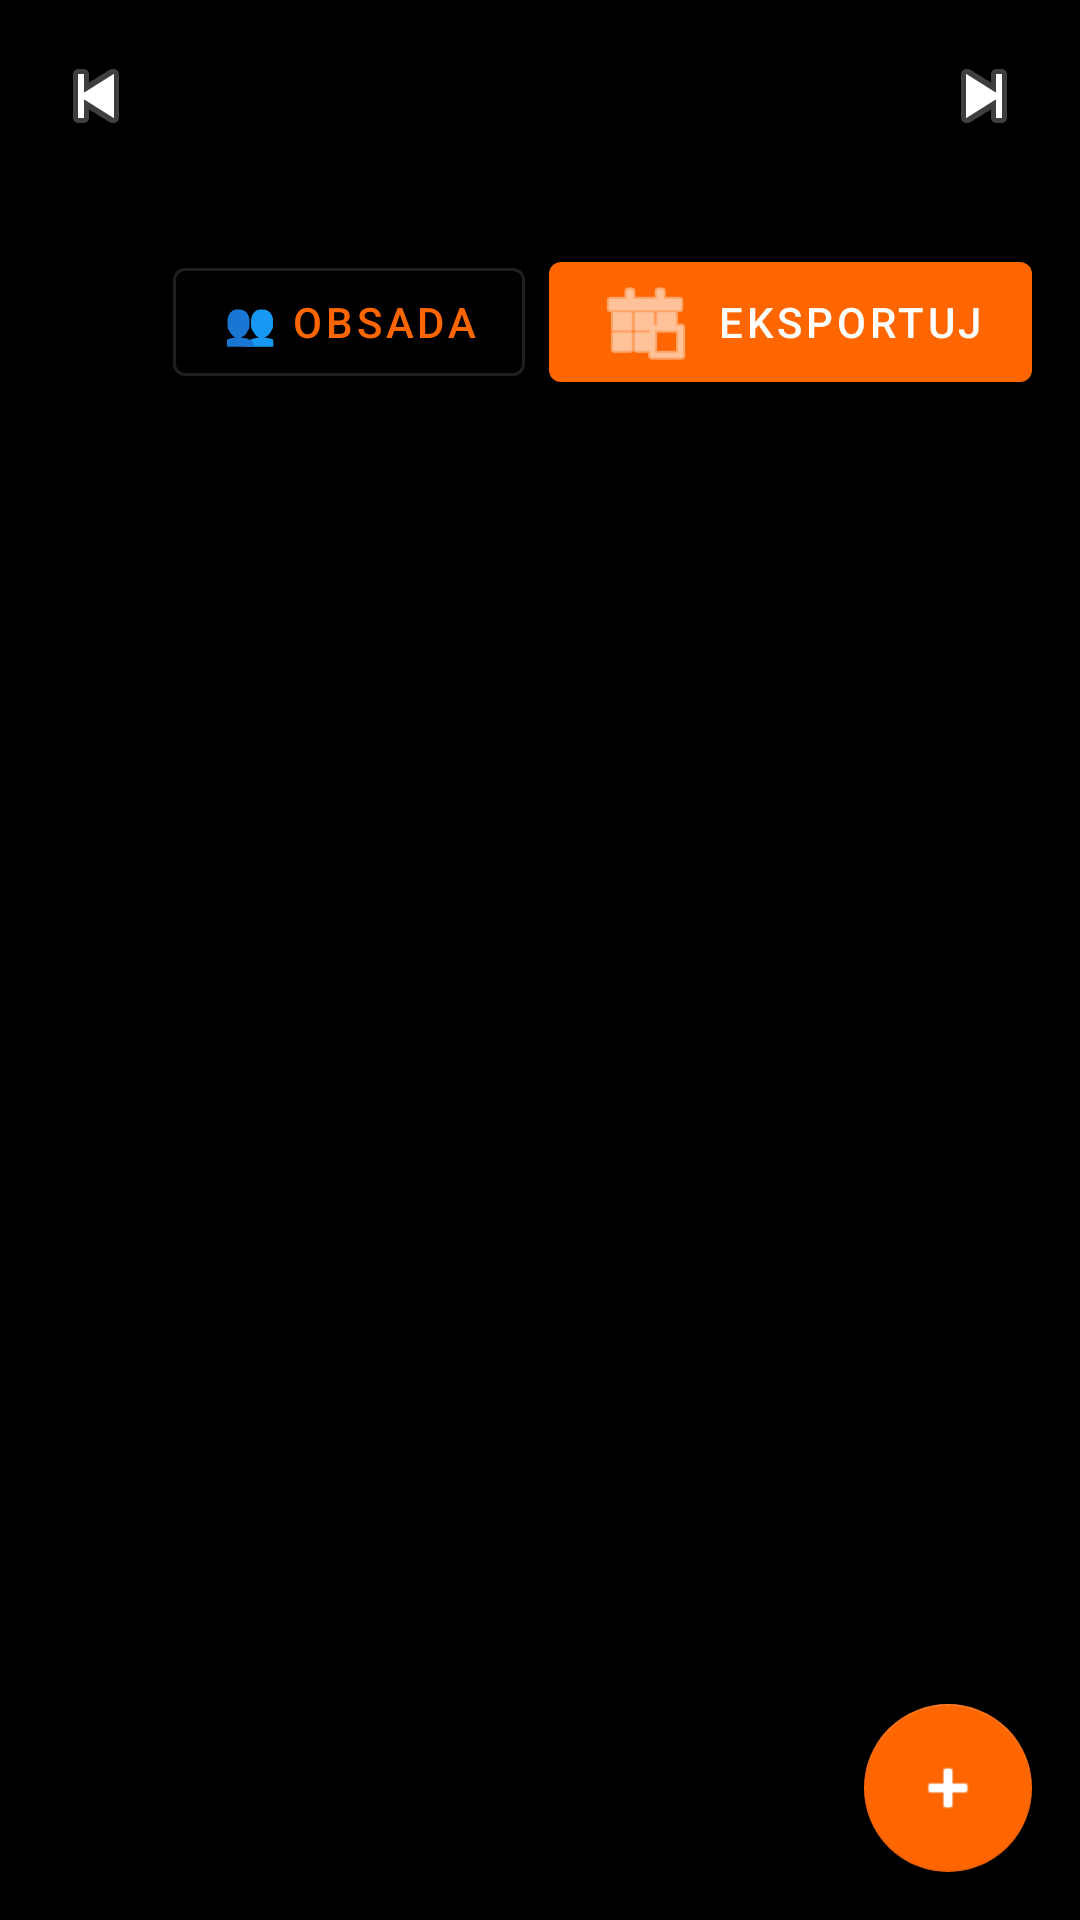

Screen size 1080x1920. Icon name, then its box in pixels as (x1, y1, x2, y2):
Dodaj zmianę: (864, 1704, 1032, 1872)
Następny miesiąc: (961, 69, 1007, 123)
Poprzedni miesiąc: (73, 69, 119, 123)
